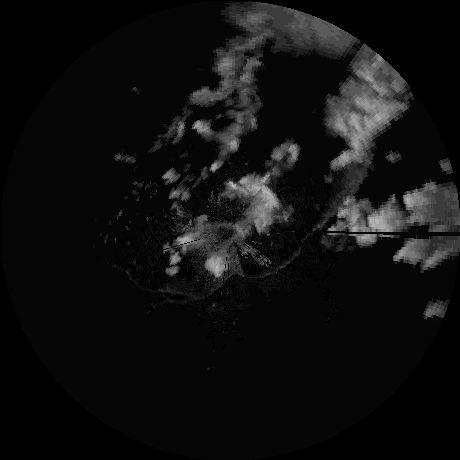frontgust: (240, 225, 327, 280), (167, 271, 235, 301)
